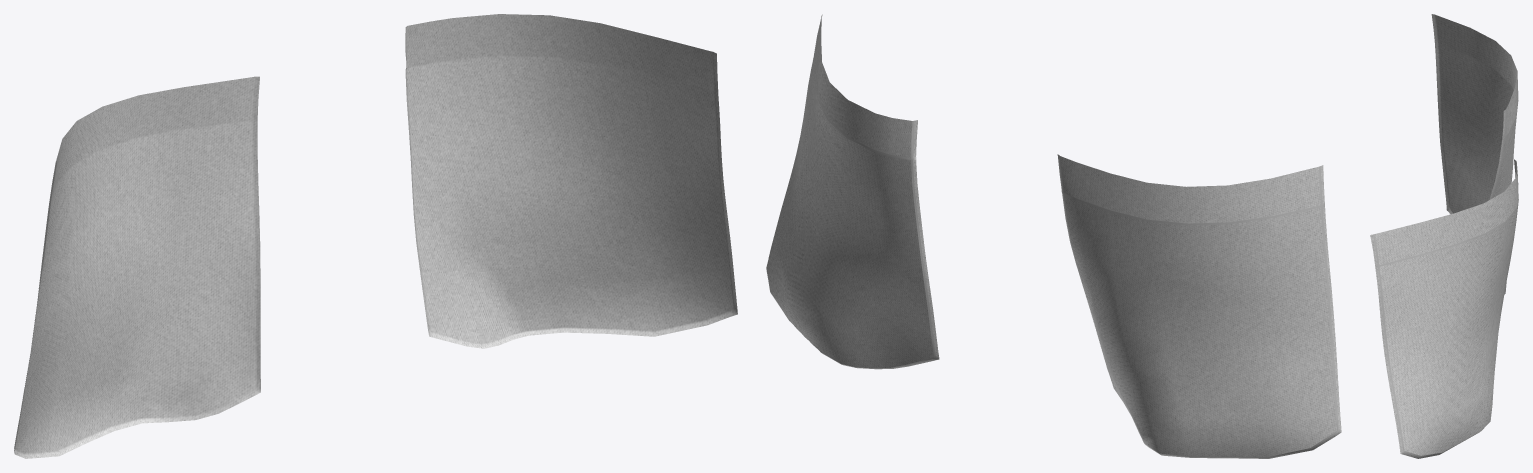
File: Pants_Pocket_BEHINDE.glb
3 renders of one model, left to right at view 1: azimuth 30°, elevation 25°; view 2: azimuth 150°, elevation 25°; view 3: azimuth 270°, elevation 25°, orthographic. The views are drawn at different scales.
Visible parts, largest first — view 1: Pants_Pocket_BEHINDE1; view 2: Pants_Pocket_BEHINDE1, Rope1; view 3: Pants_Pocket_BEHINDE1, Rope1.
Boxes of the visible parts, left/top/right/bottom form: Pants_Pocket_BEHINDE1: left=14, top=14, right=737, bottom=458; Pants_Pocket_BEHINDE1: left=766, top=14, right=1341, bottom=458; Rope1: left=766, top=35, right=1338, bottom=457; Pants_Pocket_BEHINDE1: left=1370, top=14, right=1518, bottom=458; Rope1: left=1373, top=108, right=1518, bottom=457.
Bounding box in the file's own units: 0.6018 × 0.2743 × 0.1574.
Materials: 2 (2 with a texture image).
